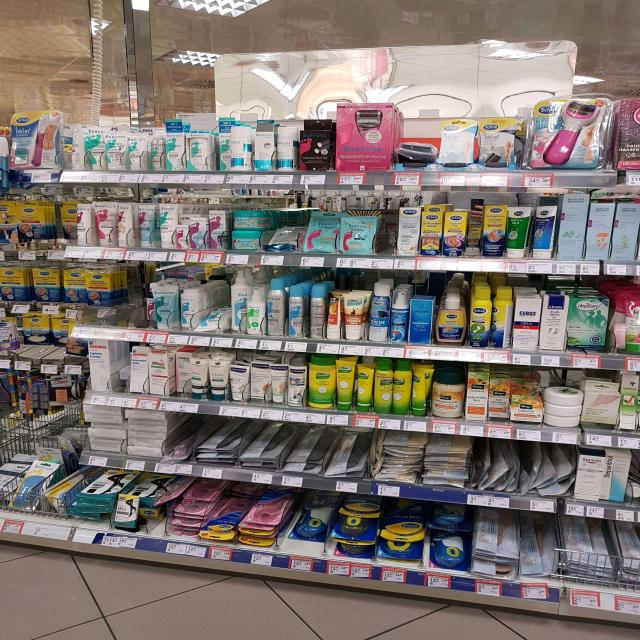unorganised: (21, 311, 69, 347), (492, 282, 514, 351), (399, 130, 436, 169), (412, 365, 432, 414), (74, 200, 94, 246), (116, 202, 135, 250), (68, 120, 86, 170), (309, 284, 324, 338), (174, 349, 189, 399), (326, 293, 341, 341), (218, 117, 230, 173), (465, 209, 480, 253), (143, 291, 155, 323)
